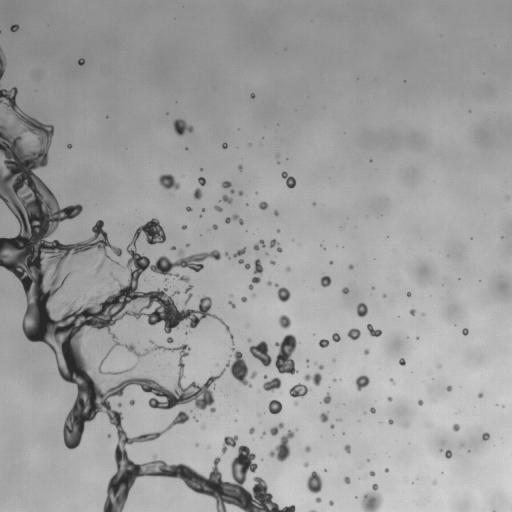droplet: (274, 334, 300, 375), (354, 483, 383, 511), (249, 340, 272, 367), (289, 382, 312, 406), (306, 470, 322, 494), (262, 377, 283, 395), (158, 174, 180, 191), (173, 118, 193, 136), (274, 283, 290, 302), (303, 372, 322, 386), (267, 399, 283, 415), (355, 374, 370, 391), (366, 323, 382, 337), (278, 314, 291, 329), (269, 238, 282, 252), (356, 302, 368, 317), (347, 328, 361, 340), (218, 194, 233, 204), (253, 239, 266, 250), (318, 410, 329, 423), (320, 275, 331, 287), (193, 187, 203, 200), (32, 166, 43, 177), (190, 198, 201, 209), (222, 204, 233, 215), (181, 212, 192, 223), (213, 212, 224, 223), (6, 227, 17, 238), (116, 238, 127, 249), (136, 244, 147, 255), (243, 252, 254, 263), (202, 256, 213, 267), (403, 297, 414, 308), (188, 298, 199, 309), (278, 301, 289, 312), (220, 308, 231, 319), (355, 317, 366, 328), (276, 327, 287, 338), (267, 346, 278, 357), (289, 350, 300, 361), (242, 353, 253, 364), (267, 366, 278, 377), (279, 372, 290, 383), (253, 376, 264, 387), (66, 382, 77, 393), (129, 383, 140, 394), (316, 383, 327, 394), (269, 388, 280, 399), (279, 393, 290, 404), (108, 395, 119, 406), (64, 396, 75, 407), (119, 406, 130, 417), (95, 409, 106, 420), (268, 413, 279, 424), (55, 414, 66, 425), (108, 435, 119, 446), (269, 435, 280, 446), (124, 443, 135, 454), (227, 446, 238, 457), (128, 451, 139, 462), (166, 455, 177, 466), (106, 464, 117, 475), (199, 466, 210, 477), (221, 471, 232, 482), (133, 475, 144, 486), (172, 476, 183, 487), (242, 479, 253, 490), (96, 491, 107, 502), (204, 494, 215, 505), (95, 495, 106, 506), (318, 338, 329, 348), (0, 78, 10, 89), (322, 392, 331, 404), (258, 201, 268, 210), (221, 180, 232, 188), (50, 133, 59, 142), (188, 197, 197, 206), (58, 199, 67, 208), (205, 206, 214, 215), (44, 234, 53, 243), (182, 248, 191, 257), (254, 249, 263, 258), (121, 251, 130, 260), (273, 252, 282, 261), (168, 253, 177, 262), (181, 266, 190, 275), (246, 268, 255, 277), (4, 269, 13, 278), (258, 271, 267, 280), (13, 279, 22, 288), (361, 314, 370, 323), (271, 319, 280, 328), (283, 326, 292, 335), (280, 327, 289, 336), (360, 328, 369, 337), (339, 332, 348, 341), (307, 366, 316, 375), (305, 379, 314, 388), (172, 403, 181, 412), (319, 403, 328, 412), (108, 424, 117, 433), (277, 427, 286, 436), (141, 439, 150, 448), (286, 439, 295, 448), (303, 452, 312, 461), (332, 332, 340, 342), (399, 422, 410, 429), (198, 177, 206, 186), (482, 432, 490, 441), (120, 505, 131, 511), (230, 505, 241, 511), (354, 505, 365, 511), (375, 505, 386, 511), (341, 286, 349, 294), (452, 423, 460, 431), (10, 24, 19, 31), (213, 205, 222, 212), (343, 444, 350, 453), (445, 449, 452, 458), (77, 58, 85, 65), (228, 300, 235, 308), (388, 377, 395, 385), (367, 470, 375, 477), (343, 476, 350, 484), (0, 151, 5, 162), (409, 309, 416, 316), (166, 336, 173, 343), (363, 348, 370, 355), (398, 358, 405, 365), (304, 445, 311, 452), (174, 112, 181, 119), (36, 115, 43, 122), (184, 119, 191, 126), (168, 125, 175, 132), (46, 151, 53, 158), (2, 167, 9, 174), (162, 168, 169, 175), (152, 175, 159, 182), (173, 175, 180, 182), (42, 177, 49, 184), (193, 181, 200, 188), (157, 184, 164, 191), (199, 185, 206, 192), (222, 187, 229, 194), (231, 192, 238, 199), (239, 195, 246, 202), (256, 195, 263, 202), (69, 199, 76, 206), (219, 200, 226, 207), (265, 206, 272, 213), (63, 217, 70, 224), (89, 218, 96, 225), (139, 218, 146, 225), (230, 218, 237, 225), (58, 237, 65, 244), (251, 237, 258, 244), (246, 245, 253, 252), (204, 246, 211, 253), (149, 258, 156, 265), (259, 259, 266, 266), (170, 266, 177, 273), (375, 288, 382, 295), (243, 289, 250, 296), (233, 297, 240, 304), (287, 313, 294, 320), (20, 334, 27, 341), (276, 335, 283, 342), (252, 338, 259, 345), (35, 340, 42, 347), (294, 342, 301, 349), (224, 367, 231, 374), (231, 377, 238, 384), (147, 391, 154, 398), (211, 392, 218, 399), (110, 403, 117, 410), (314, 416, 321, 423), (327, 416, 334, 423), (83, 420, 90, 427), (175, 422, 182, 429), (149, 426, 156, 433), (253, 429, 260, 436), (126, 431, 133, 438), (80, 432, 87, 439), (235, 439, 242, 446), (58, 440, 65, 447), (108, 449, 115, 456), (214, 449, 221, 456), (284, 455, 291, 462), (271, 456, 278, 463), (132, 457, 139, 464), (245, 469, 252, 476), (253, 469, 260, 476), (316, 469, 323, 476), (202, 471, 209, 478), (369, 476, 376, 483), (102, 479, 109, 486), (300, 480, 307, 487), (320, 482, 327, 489), (376, 486, 383, 493), (185, 487, 192, 494), (303, 487, 310, 494), (127, 488, 134, 495), (315, 490, 322, 497), (356, 490, 363, 497), (310, 491, 317, 498), (321, 497, 328, 504), (311, 501, 318, 508), (277, 502, 284, 509), (237, 164, 243, 172), (129, 398, 135, 406), (459, 440, 465, 448), (95, 506, 104, 511), (326, 506, 335, 511), (222, 142, 228, 149), (273, 209, 279, 216), (462, 328, 468, 335), (369, 406, 375, 413), (249, 427, 255, 434), (315, 496, 321, 503), (185, 206, 193, 211), (425, 423, 433, 428), (266, 280, 272, 286), (241, 296, 247, 302), (446, 385, 452, 391), (477, 392, 483, 398), (417, 399, 423, 405), (0, 265, 4, 274), (269, 260, 276, 265), (246, 338, 253, 343), (250, 92, 255, 98), (238, 190, 243, 196), (181, 224, 187, 229), (406, 291, 411, 297), (436, 363, 442, 368), (387, 396, 393, 401), (388, 419, 393, 425), (200, 423, 205, 429), (303, 461, 308, 467), (329, 500, 334, 506), (230, 189, 235, 194), (504, 195, 509, 200), (212, 224, 217, 229), (348, 264, 353, 269), (285, 266, 290, 271), (250, 293, 255, 298), (382, 293, 387, 298), (117, 402, 122, 407), (329, 423, 334, 428), (384, 468, 389, 473), (2, 71, 7, 76), (14, 97, 19, 102), (192, 125, 197, 130), (52, 129, 57, 134), (278, 156, 283, 161), (237, 159, 242, 164), (286, 171, 291, 176), (200, 172, 205, 177), (225, 176, 230, 181), (281, 177, 286, 182), (294, 177, 299, 182), (178, 184, 183, 189), (293, 184, 298, 189), (48, 185, 53, 190), (283, 185, 288, 190), (169, 186, 174, 191), (189, 189, 194, 194), (233, 190, 238, 195), (263, 197, 268, 202), (258, 208, 263, 213), (213, 209, 218, 214), (277, 209, 282, 214), (79, 210, 84, 215), (226, 212, 231, 217), (238, 213, 243, 218), (73, 215, 78, 220), (146, 216, 151, 221), (220, 216, 225, 221), (158, 220, 163, 225), (180, 220, 185, 225), (207, 223, 212, 228), (241, 223, 246, 228), (101, 225, 106, 230), (210, 228, 215, 233), (89, 231, 94, 236), (164, 232, 169, 237), (106, 234, 111, 239), (264, 240, 269, 245), (257, 242, 262, 247), (149, 243, 154, 248), (272, 244, 277, 249), (104, 245, 109, 250), (237, 245, 242, 250), (228, 251, 233, 256), (219, 252, 224, 257), (126, 253, 131, 258), (236, 254, 241, 259), (199, 259, 204, 264), (239, 262, 244, 267), (343, 263, 348, 268), (352, 263, 357, 268), (250, 264, 255, 269), (198, 268, 203, 273), (346, 268, 351, 273), (323, 271, 328, 276), (329, 275, 334, 280), (315, 278, 320, 283), (188, 279, 193, 284), (252, 282, 257, 287), (278, 282, 283, 287), (339, 283, 344, 288), (324, 285, 329, 290), (347, 285, 352, 290), (273, 286, 278, 291), (286, 286, 291, 291), (338, 291, 343, 296), (346, 291, 351, 296), (377, 294, 382, 299), (246, 296, 251, 301), (231, 298, 236, 303), (276, 298, 281, 303), (285, 298, 290, 303), (357, 298, 362, 303), (226, 303, 231, 308), (193, 305, 198, 310), (366, 305, 371, 310), (21, 306, 26, 311), (352, 307, 357, 312), (207, 308, 212, 313), (216, 312, 221, 317), (353, 312, 358, 317), (17, 323, 22, 328), (344, 327, 349, 332), (377, 334, 382, 339), (294, 336, 299, 341), (346, 336, 351, 341), (355, 337, 360, 342), (328, 338, 333, 343), (234, 346, 239, 351), (322, 346, 327, 351), (359, 347, 364, 352), (368, 350, 373, 355), (359, 351, 364, 356), (304, 353, 309, 358), (308, 360, 313, 365), (316, 360, 321, 365), (293, 364, 298, 369), (399, 364, 404, 369), (318, 369, 323, 374), (355, 372, 360, 377), (366, 373, 371, 378), (56, 374, 61, 379), (266, 376, 271, 381), (213, 378, 218, 383), (319, 378, 324, 383), (368, 378, 373, 383), (300, 379, 305, 384), (446, 380, 451, 385), (367, 381, 372, 386), (352, 383, 357, 388), (243, 384, 248, 389), (451, 385, 456, 390), (360, 386, 365, 391), (273, 387, 278, 392), (447, 390, 452, 395), (473, 390, 478, 395), (321, 392, 326, 397), (329, 392, 334, 397), (389, 392, 394, 397), (482, 393, 487, 398), (295, 395, 300, 400), (276, 396, 281, 401), (477, 397, 482, 402), (422, 399, 427, 404), (280, 400, 285, 405), (328, 400, 333, 405), (386, 400, 391, 405), (133, 401, 138, 406), (264, 401, 269, 406), (413, 401, 418, 406), (210, 402, 215, 407), (205, 404, 210, 409), (154, 407, 159, 412), (264, 407, 269, 412), (214, 408, 219, 413), (279, 408, 284, 413), (365, 409, 370, 414), (185, 410, 190, 415), (211, 411, 216, 416), (274, 412, 279, 417), (119, 419, 124, 424), (183, 420, 188, 425), (196, 421, 201, 426), (333, 421, 338, 426), (273, 422, 278, 427), (59, 423, 64, 428), (448, 423, 453, 428), (244, 426, 249, 431), (289, 426, 294, 431), (458, 426, 463, 431), (154, 427, 159, 432), (483, 427, 488, 432), (480, 428, 485, 433), (141, 429, 146, 434), (265, 430, 270, 435), (453, 430, 458, 435), (135, 431, 140, 436), (223, 431, 228, 436), (293, 431, 298, 436), (229, 432, 234, 437), (58, 434, 63, 439), (158, 434, 163, 439), (488, 435, 493, 440), (154, 437, 159, 442), (219, 437, 224, 442), (486, 438, 491, 443), (344, 439, 349, 444), (306, 441, 311, 446), (339, 443, 344, 448), (226, 444, 231, 449), (300, 444, 305, 449), (73, 446, 78, 451), (309, 446, 314, 451), (349, 446, 354, 451), (341, 449, 346, 454), (440, 450, 445, 455), (155, 455, 160, 460), (148, 456, 153, 461), (299, 459, 304, 464), (298, 462, 303, 467), (306, 471, 311, 476), (349, 477, 354, 482), (339, 478, 344, 483), (376, 481, 381, 486), (367, 485, 372, 490), (270, 497, 275, 502), (286, 501, 291, 506), (185, 243, 191, 247), (432, 479, 436, 485), (0, 231, 3, 238), (67, 144, 72, 148), (329, 260, 333, 265), (229, 293, 234, 297), (245, 323, 249, 328), (166, 362, 171, 366), (263, 374, 267, 379), (107, 433, 111, 438), (245, 202, 249, 206), (276, 229, 280, 233), (371, 286, 375, 290), (421, 312, 425, 316), (305, 358, 309, 362), (332, 378, 336, 382), (366, 458, 370, 462), (323, 468, 327, 472), (339, 225, 344, 228), (214, 363, 219, 366), (257, 412, 260, 417), (195, 442, 198, 447), (207, 444, 210, 449), (293, 508, 298, 511), (468, 109, 471, 113), (276, 161, 280, 164), (254, 191, 258, 194), (312, 202, 316, 205), (201, 208, 205, 211), (415, 336, 419, 339), (332, 358, 335, 362), (189, 409, 192, 413), (363, 410, 366, 414), (439, 449, 443, 452), (0, 198, 2, 203), (185, 147, 188, 150), (276, 154, 279, 157), (369, 159, 372, 162), (200, 168, 203, 171), (199, 214, 202, 217), (291, 238, 294, 241), (265, 252, 268, 255), (312, 333, 315, 336), (234, 419, 237, 422), (342, 432, 345, 435), (467, 449, 470, 452), (12, 21, 15, 24), (8, 24, 11, 27), (18, 24, 21, 27), (17, 28, 20, 31), (0, 30, 3, 33), (11, 31, 14, 34), (75, 62, 78, 65), (82, 63, 85, 66), (78, 64, 81, 67), (403, 76, 406, 79), (6, 87, 9, 90), (16, 87, 19, 90), (254, 93, 257, 96), (247, 94, 250, 97), (253, 96, 256, 99), (107, 113, 110, 116), (30, 114, 33, 117), (102, 114, 105, 117), (263, 136, 266, 139), (223, 139, 226, 142), (67, 140, 70, 143), (226, 141, 229, 144), (71, 143, 74, 146), (63, 144, 66, 147), (186, 144, 189, 147), (219, 145, 222, 148), (226, 145, 229, 148), (70, 146, 73, 149), (181, 146, 184, 149), (185, 149, 188, 152), (370, 156, 373, 159), (276, 157, 279, 160), (286, 159, 289, 162), (369, 161, 372, 164), (199, 164, 202, 167), (196, 167, 199, 170), (241, 167, 244, 170), (236, 169, 239, 172), (279, 169, 282, 172), (278, 174, 281, 177), (204, 177, 207, 180), (204, 182, 207, 185), (289, 187, 292, 190), (253, 188, 256, 191), (50, 189, 53, 192), (242, 192, 245, 195), (219, 196, 222, 199), (247, 200, 250, 203), (309, 200, 312, 203), (315, 202, 318, 205), (242, 203, 245, 206), (189, 204, 192, 207), (310, 204, 313, 207), (245, 205, 248, 208), (204, 207, 207, 210), (183, 208, 186, 211), (188, 210, 191, 213), (200, 211, 203, 214), (271, 213, 274, 216), (200, 216, 203, 219), (100, 217, 103, 220), (242, 219, 245, 222), (224, 222, 227, 225), (133, 227, 136, 230), (162, 227, 165, 230), (183, 228, 186, 231), (279, 228, 282, 231), (247, 229, 250, 232), (273, 229, 276, 232), (500, 232, 503, 235), (467, 235, 470, 238), (503, 235, 506, 238), (260, 236, 263, 239), (270, 236, 273, 239), (472, 236, 475, 239), (275, 238, 278, 241), (469, 239, 472, 242), (185, 240, 188, 243), (319, 240, 322, 243), (154, 242, 157, 245), (316, 243, 319, 246), (278, 244, 281, 247), (322, 244, 325, 247), (338, 244, 341, 247), (175, 246, 178, 249), (244, 248, 247, 251), (233, 250, 236, 253), (275, 250, 278, 253), (230, 255, 233, 258), (271, 257, 274, 260), (329, 257, 332, 260), (326, 260, 329, 263), (332, 260, 335, 263), (243, 261, 246, 264), (269, 263, 272, 266), (274, 263, 277, 266), (330, 263, 333, 266), (289, 265, 292, 268), (191, 269, 194, 272), (458, 274, 461, 277), (477, 276, 480, 279), (457, 279, 460, 282), (271, 282, 274, 285), (368, 284, 371, 287), (373, 284, 376, 287), (370, 289, 373, 292), (384, 291, 387, 294), (410, 291, 413, 294), (403, 292, 406, 295), (205, 293, 208, 296), (343, 293, 346, 296), (210, 297, 213, 300), (383, 297, 386, 300), (224, 300, 227, 303), (242, 301, 245, 304), (409, 306, 412, 309), (413, 311, 416, 314), (408, 313, 411, 316), (399, 314, 402, 317), (222, 318, 225, 321), (225, 322, 228, 325), (228, 326, 231, 329), (467, 328, 470, 331), (332, 330, 335, 333), (459, 330, 462, 333), (467, 331, 470, 334), (415, 333, 418, 336), (232, 334, 235, 337), (372, 335, 375, 338), (319, 336, 322, 339), (412, 336, 415, 339), (418, 336, 421, 339), (232, 337, 235, 340), (316, 339, 319, 342), (338, 339, 341, 342), (415, 339, 418, 342), (335, 341, 338, 344), (49, 348, 52, 351), (396, 357, 399, 360), (53, 359, 56, 362), (404, 359, 407, 362), (397, 363, 400, 366), (335, 376, 338, 379), (392, 377, 395, 380), (389, 381, 392, 384), (444, 384, 447, 387), (289, 385, 292, 388), (384, 397, 387, 400), (495, 400, 498, 403), (145, 401, 148, 404), (321, 401, 324, 404), (418, 404, 421, 407), (498, 404, 501, 407), (494, 405, 497, 408), (374, 406, 377, 409), (502, 407, 505, 410), (371, 412, 374, 415), (336, 415, 339, 418), (231, 417, 234, 420), (236, 417, 239, 420), (385, 420, 388, 423), (392, 420, 395, 423), (234, 421, 237, 424), (328, 427, 331, 430), (341, 428, 344, 431), (344, 431, 347, 434), (488, 432, 491, 435), (339, 433, 342, 436), (104, 434, 107, 437), (262, 434, 265, 437), (479, 434, 482, 437), (192, 443, 195, 446), (197, 444, 200, 447), (464, 448, 467, 451), (450, 449, 453, 452), (367, 455, 370, 458), (450, 455, 453, 458), (445, 457, 448, 460), (363, 459, 366, 462), (386, 465, 389, 468), (325, 466, 328, 469), (382, 466, 385, 469), (388, 468, 391, 471), (440, 468, 443, 471), (373, 469, 376, 472), (443, 470, 446, 473), (383, 471, 386, 474), (374, 473, 377, 476), (261, 476, 264, 479), (407, 480, 410, 483), (413, 480, 416, 483), (351, 495, 354, 498), (332, 499, 335, 502), (332, 503, 335, 506), (493, 507, 496, 510), (258, 389, 260, 393), (501, 405, 505, 407), (403, 80, 406, 82), (166, 112, 168, 115), (106, 115, 108, 118), (237, 128, 240, 130), (248, 143, 251, 145), (181, 175, 184, 177), (470, 237, 473, 239), (144, 278, 146, 281), (406, 336, 409, 338), (307, 364, 309, 367), (342, 403, 345, 405), (495, 404, 498, 406), (358, 419, 360, 422), (261, 458, 263, 461), (411, 481, 413, 484), (277, 123, 279, 125), (501, 236, 503, 238), (336, 245, 338, 247), (458, 278, 460, 280), (478, 280, 480, 282), (397, 315, 399, 317), (454, 324, 456, 326), (339, 378, 341, 380), (328, 386, 330, 388), (236, 409, 238, 411), (441, 471, 443, 473), (416, 477, 418, 479), (286, 158, 288, 159), (245, 230, 247, 231), (200, 234, 201, 236), (373, 258, 375, 259), (319, 402, 321, 403), (432, 378, 433, 379), (358, 477, 359, 478)
ligament: (268, 428, 298, 462), (248, 258, 263, 290), (281, 171, 296, 188), (269, 422, 284, 436), (225, 214, 243, 225), (232, 246, 246, 257), (238, 259, 250, 269), (224, 252, 231, 259), (260, 431, 266, 439), (192, 415, 198, 422), (320, 244, 326, 250), (335, 417, 343, 421), (184, 330, 191, 334), (308, 510, 317, 511), (492, 510, 496, 511), (0, 30, 1, 33)
